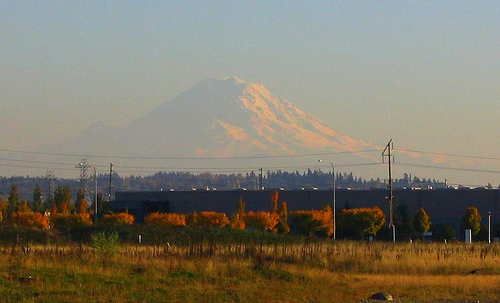pole: (379, 138, 397, 235), (107, 161, 115, 201), (257, 166, 264, 189)
